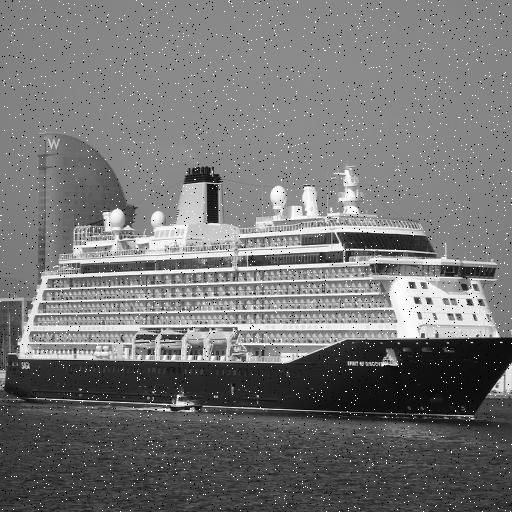cruises: (2, 164, 512, 431)
